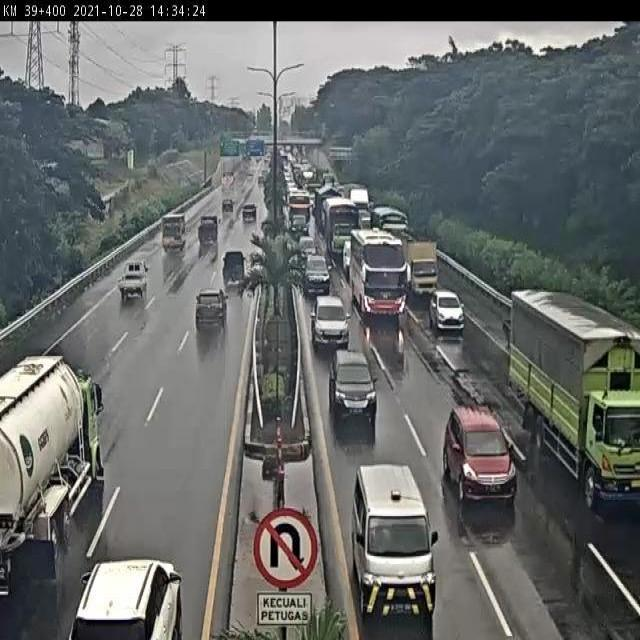big bus: (349, 224, 408, 320)
big truck: (509, 275, 640, 501), (0, 348, 105, 595), (325, 195, 361, 261), (407, 239, 442, 297), (161, 212, 188, 253), (198, 212, 221, 245)
car: (352, 460, 442, 616), (442, 400, 518, 505), (328, 346, 379, 422), (311, 292, 352, 349), (429, 282, 466, 334), (193, 286, 230, 330), (117, 262, 150, 302), (303, 251, 331, 297), (221, 246, 248, 286), (297, 235, 317, 264), (342, 239, 355, 269)
